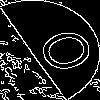O: (25, 25, 99, 81)
